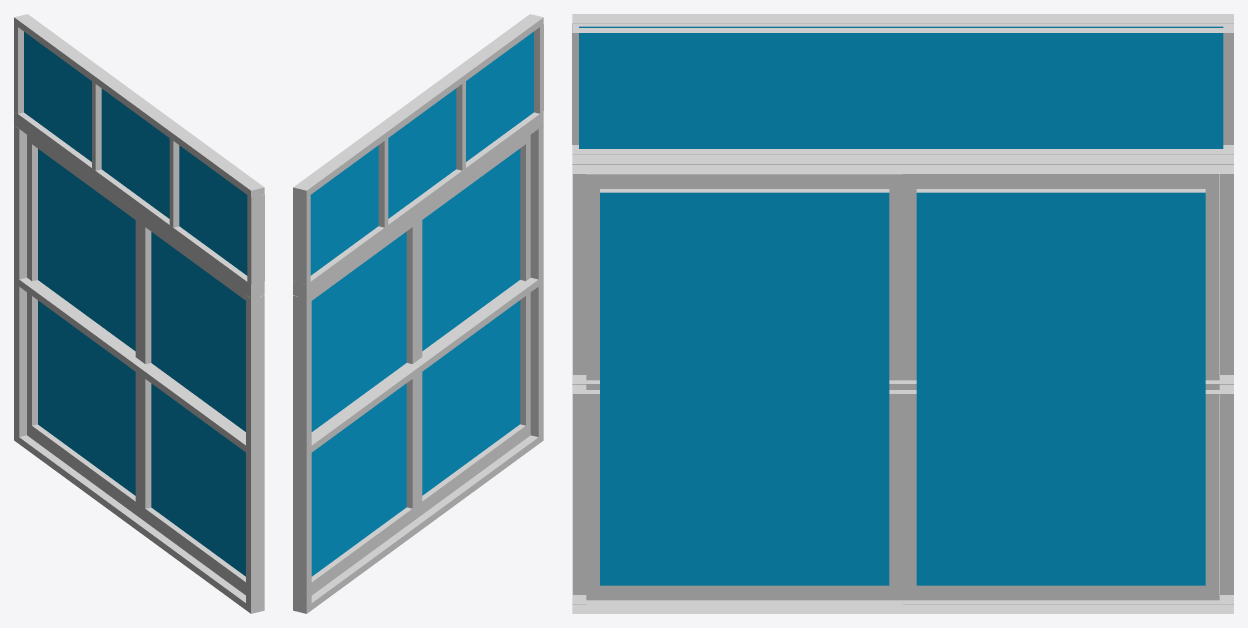
File: SM_Windows.fbx
3 views of the same model, side by side, from view 1: azimuth 30°, elevation 25°; view 2: azimuth 150°, elevation 25°; view 3: azimuth 270°, elevation 25° (orthographic). The views are drawn at different scales.
Visible parts, largest first — view 1: SM_Window, SM_Window.001; view 2: SM_Window, SM_Window.001; view 3: SM_Window, SM_Window.001.
Boxes of the visible parts, x1=… form: SM_Window: x1=14, y1=118, x2=264, y2=613; SM_Window.001: x1=14, y1=14, x2=264, y2=291; SM_Window: x1=293, y1=118, x2=543, y2=613; SM_Window.001: x1=293, y1=14, x2=543, y2=291; SM_Window: x1=572, y1=154, x2=1233, y2=613; SM_Window.001: x1=572, y1=14, x2=1233, y2=154.
Size of the model in its own units: 4.69 by 135 by 137.
